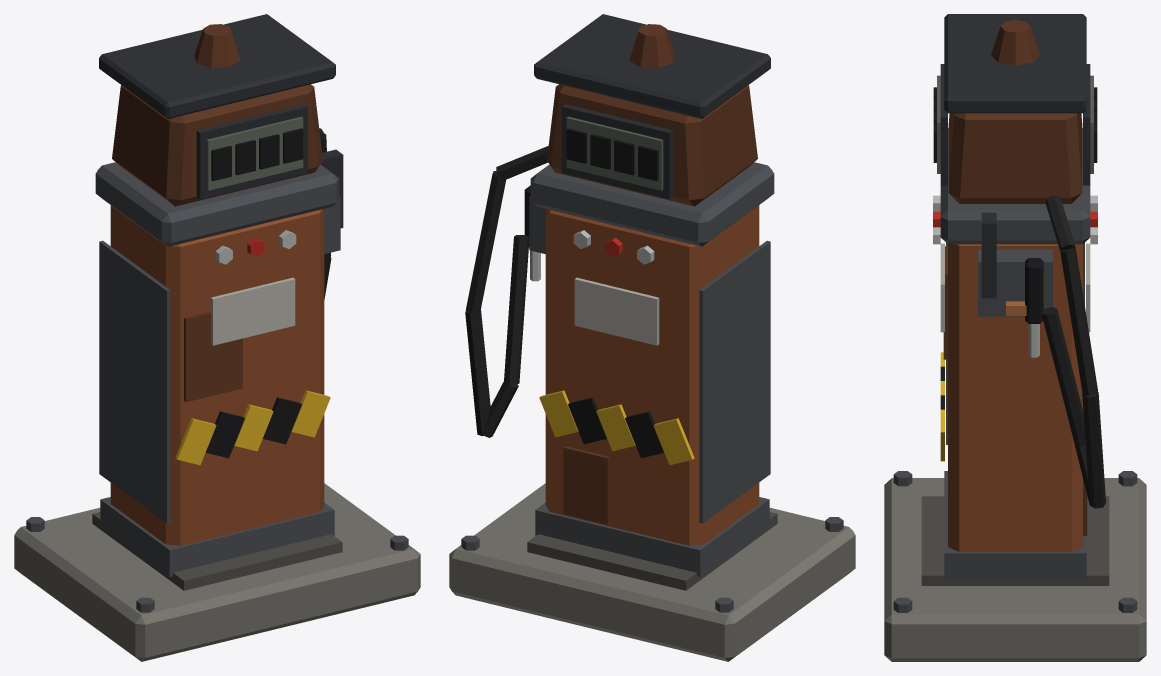
Rendered from lm_fuel_pump.fbx.
3 renders of one model, left to right at view 1: azimuth 30°, elevation 25°; view 2: azimuth 150°, elevation 25°; view 3: azimuth 270°, elevation 25°, orthographic. The views are drawn at different scales.
Parts seen in each view (by area): view 1: lm_fuel_pump; view 2: lm_fuel_pump; view 3: lm_fuel_pump.
Boxes of the visible parts, x1,y1,x2,y2 form: lm_fuel_pump: (14,14,420,661); lm_fuel_pump: (449,14,855,661); lm_fuel_pump: (884,14,1146,661).
Bounding box in the file's own units: 0.9215 × 1.67 × 0.7.
